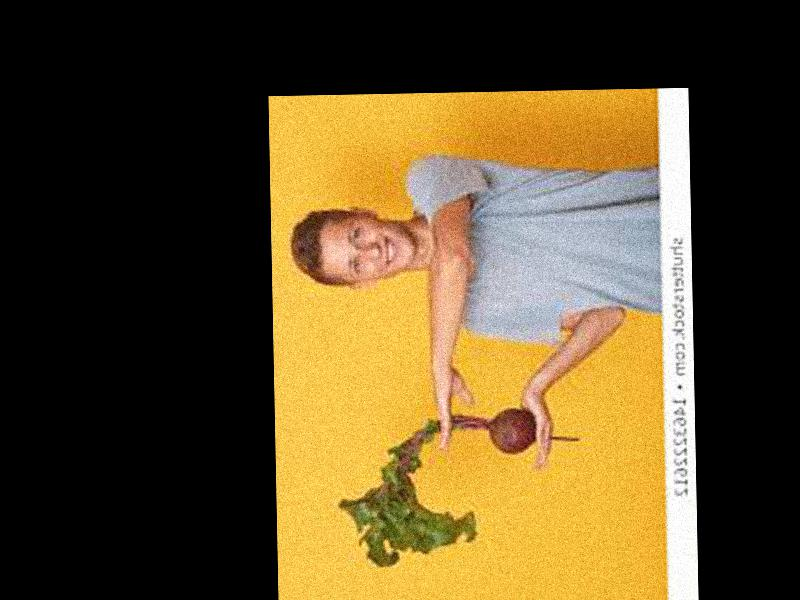Beet: (337, 407, 581, 568)
